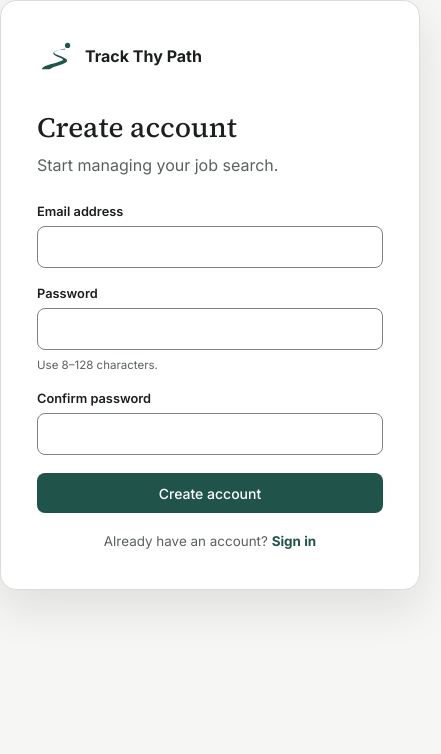
RegisterForm › uses the existing invalid-email message and field association
Step 1. Type "invalid-email" into the field labelled "Email address" → x=210, y=247, box [37, 226, 383, 268]
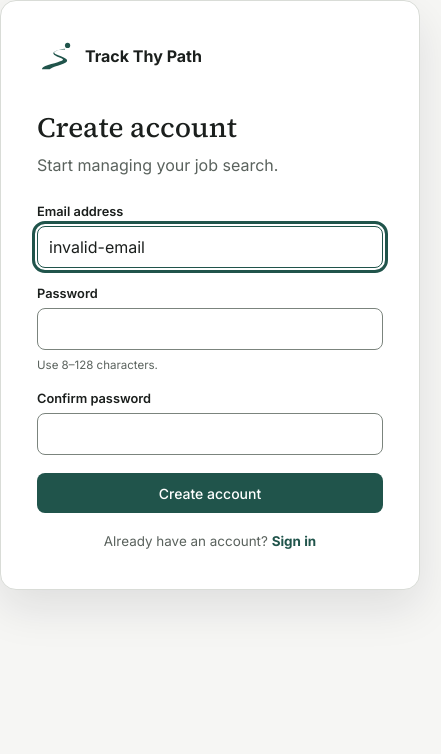
Step 2. Click the button "Create account" → x=210, y=493, box [37, 473, 383, 513]
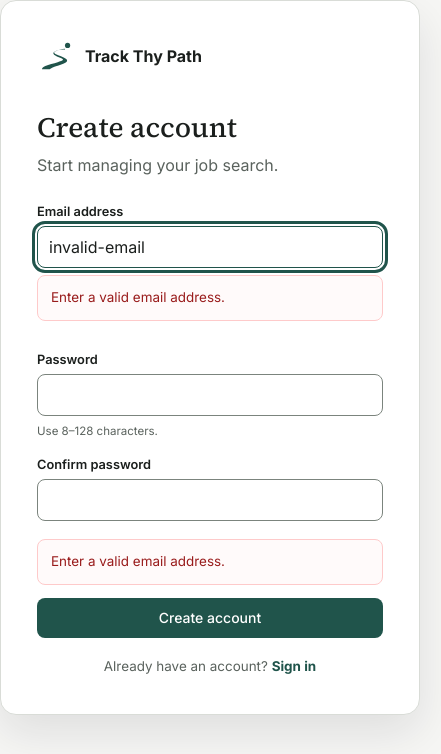
Now the text "Enter a valid email address." is shown, box [37, 275, 383, 321]
